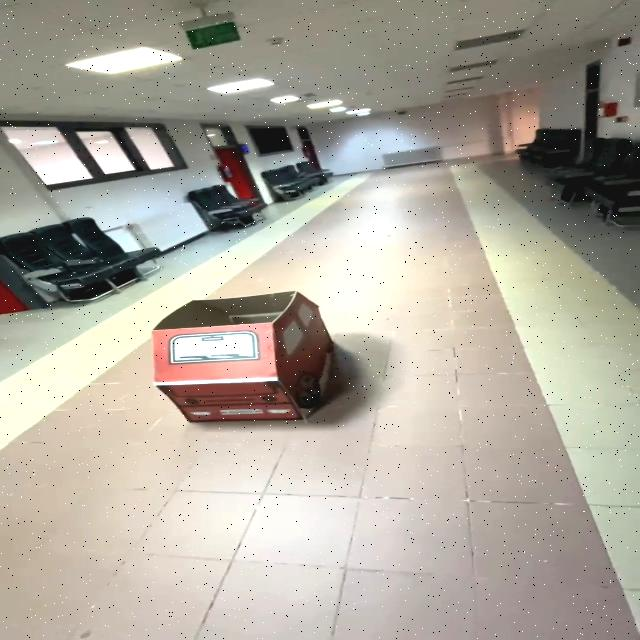red_car: (132, 279, 398, 431)
